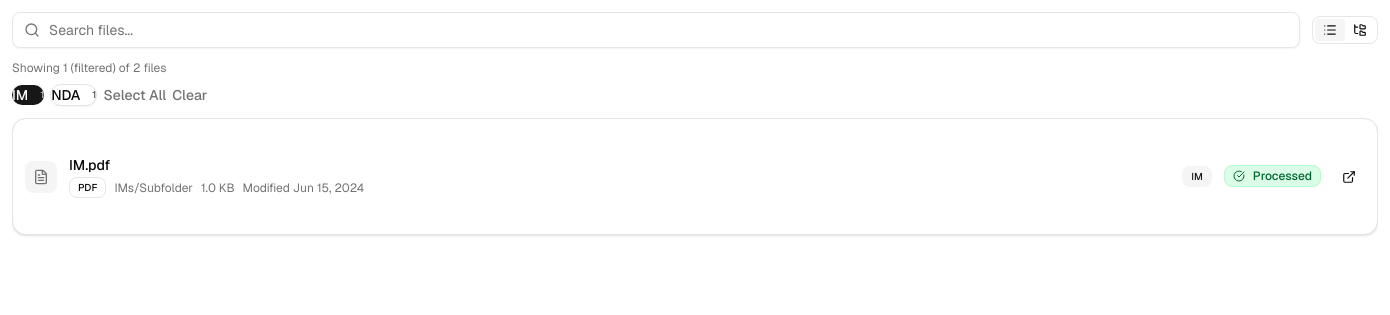
Test: VirtualFilesList › file type filter pills › hides Select All when all pills are already selected
Expected: the text "IM.pdf" is shown, [69,156,110,174]
# Click Select All
Click the button "Select All".
click(135, 95)  # box [103,85,166,105]
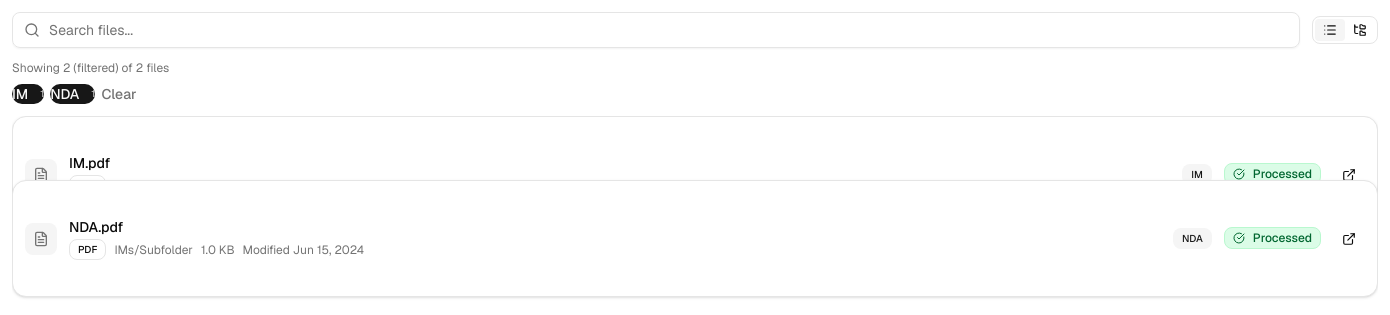
Expected: the button "Clear" is shown, [101,84,137,104]
Expected: the button "Select All" is gone
